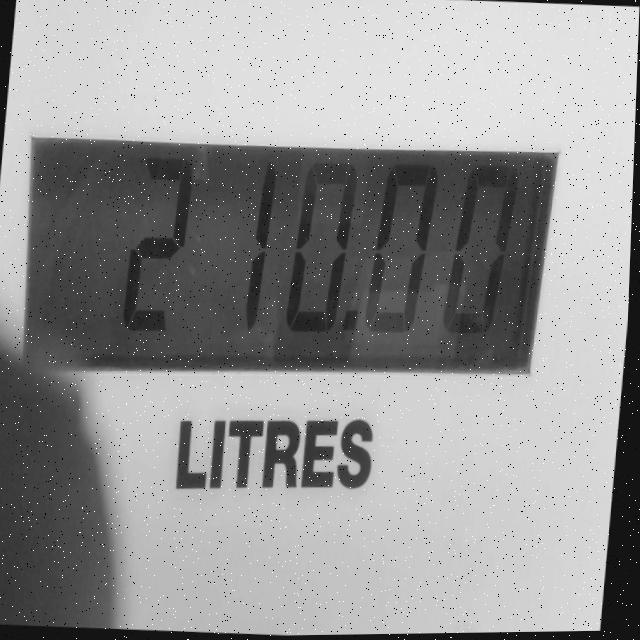.: (340, 299, 366, 353)
0: (361, 147, 452, 346), (285, 149, 372, 356), (447, 162, 527, 353)
1: (217, 151, 292, 344)
2: (113, 144, 212, 358)
